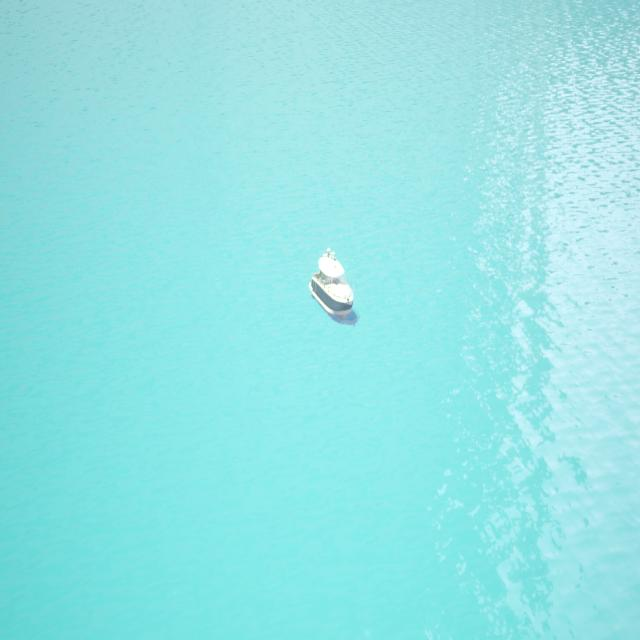ship: (309, 243, 356, 320)
